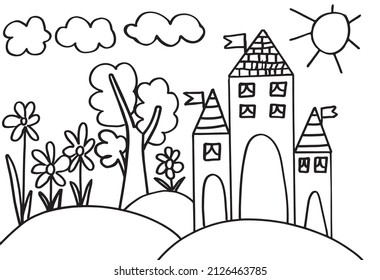cloud: (122, 10, 208, 46), (54, 14, 118, 55), (2, 13, 52, 58)
flower: (1, 97, 41, 228), (63, 121, 98, 209), (30, 139, 70, 212), (153, 145, 187, 194)
sun: (288, 2, 363, 75)
tree: (88, 61, 179, 203)
